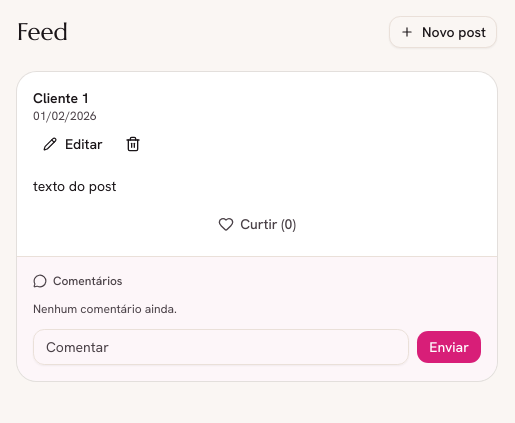
Test case: FeedPage › mostra a mensagem de erro original quando comentar falha
In the field labelled "Comentar": (221, 347) [33,329,409,365], type "oi"
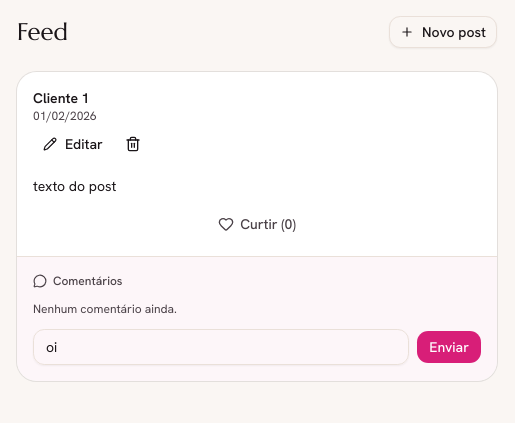
Click the button "Enviar": (449, 347) [417,331,481,363]
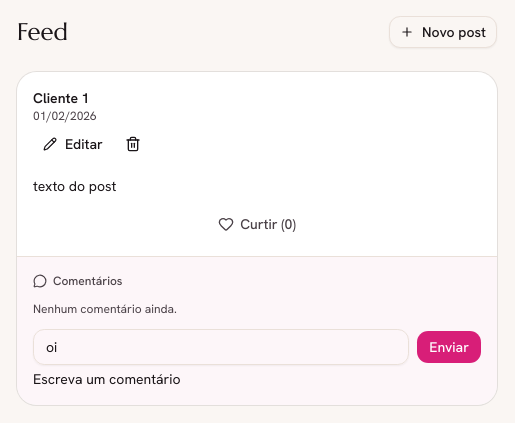
Expected: the message reads "Escreva um comentário", [33,370,180,388]
